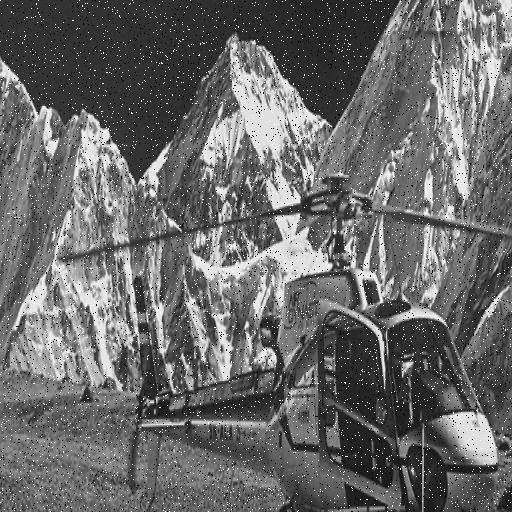helicopter: (94, 160, 512, 512)
